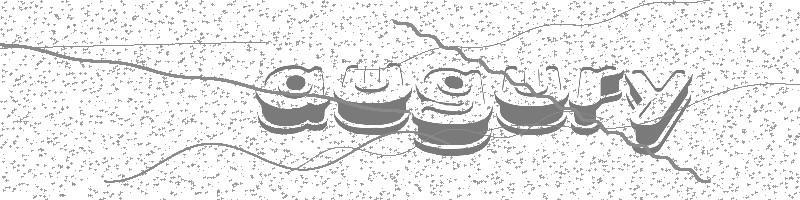a: (254, 64, 332, 135)
g: (412, 66, 494, 157)
r: (569, 65, 624, 138)
u: (333, 63, 412, 136), (495, 65, 569, 136)
y: (624, 68, 692, 155)
